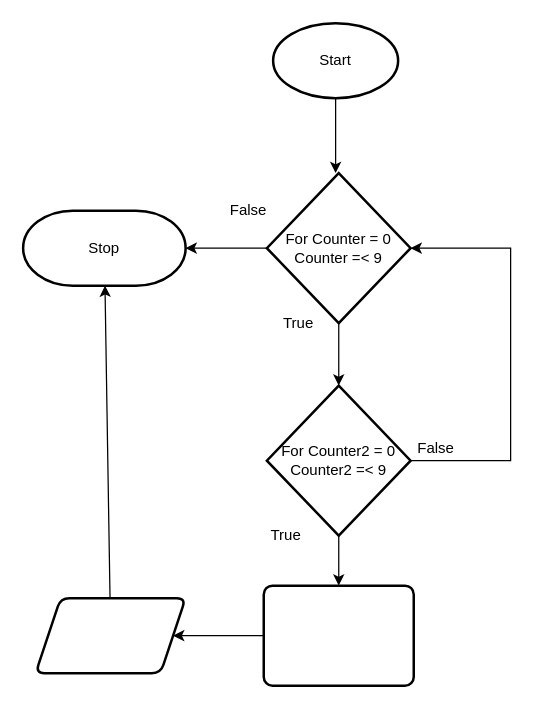
Some shapes in this 543 by 708 pixel diagram are drawn without their labels. The centre of each missing label's shape, as x and y in pixels:
Counter x Counter2 = answer: [338,635]
Show Counter x Counter2: [110,635]
